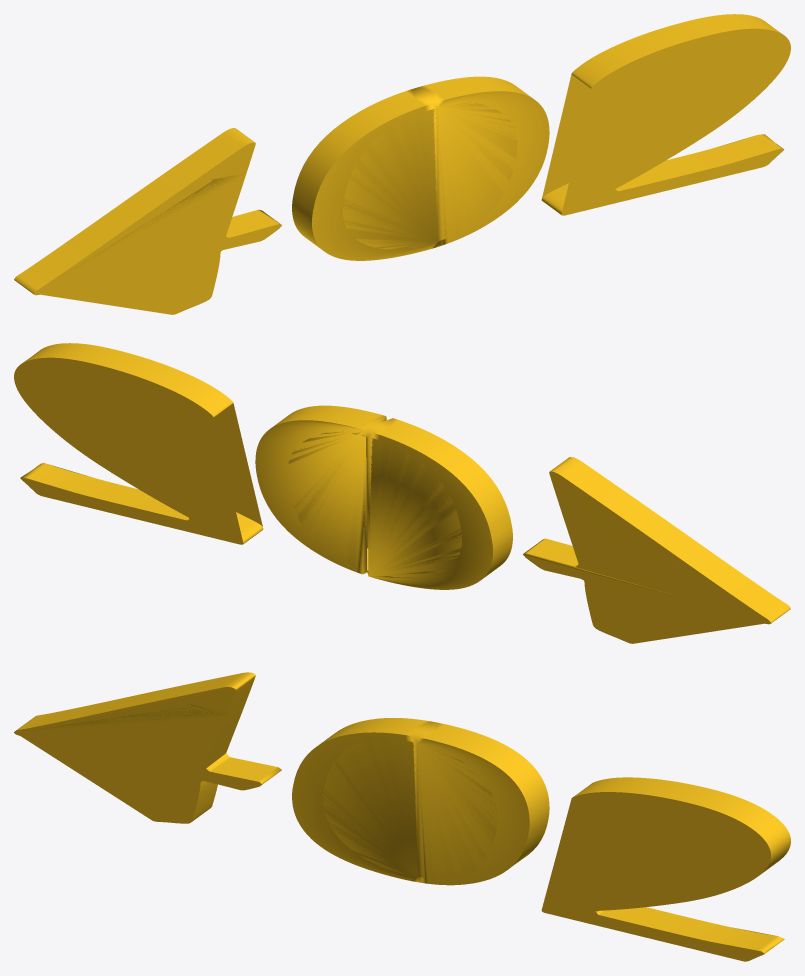
3 renders of one model, top to bottom at view 1: azimuth 30°, elevation 25°; view 2: azimuth 150°, elevation 25°; view 3: azimuth 330°, elevation 25°, orthographic.
Parts seen in each view (by area): view 1: T_402_LOD0; view 2: T_402_LOD0; view 3: T_402_LOD0.
Part boxes in pixels (<box>): T_402_LOD0: <box>14,14,790,314</box>; T_402_LOD0: <box>14,343,790,643</box>; T_402_LOD0: <box>14,672,790,961</box>.
Size of what is drawn, in the model's own units: 20.02 by 3.86 by 0.9122.
